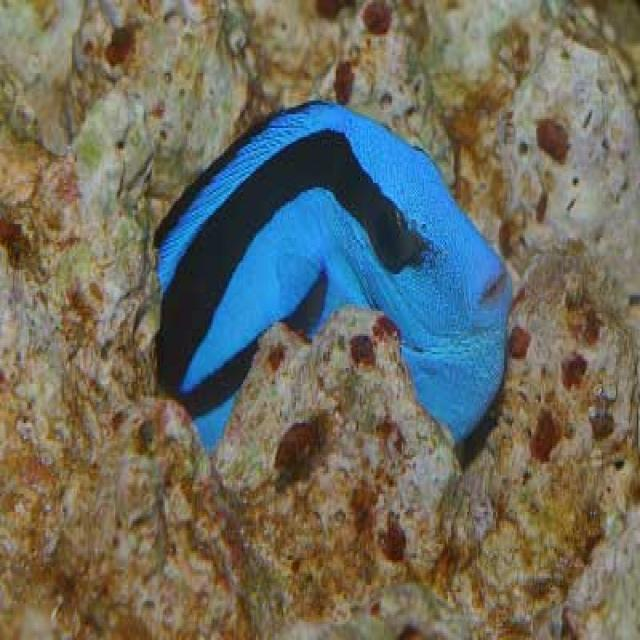TangFish: (147, 95, 510, 478)
